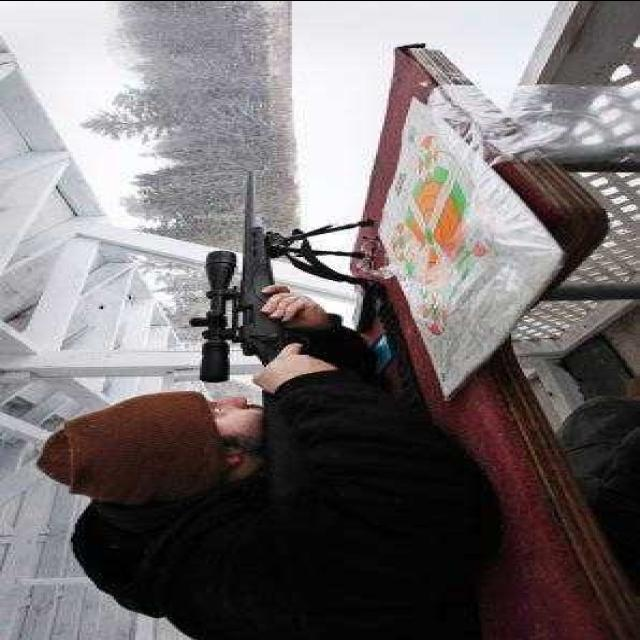heavyweapon: (171, 151, 377, 527)
